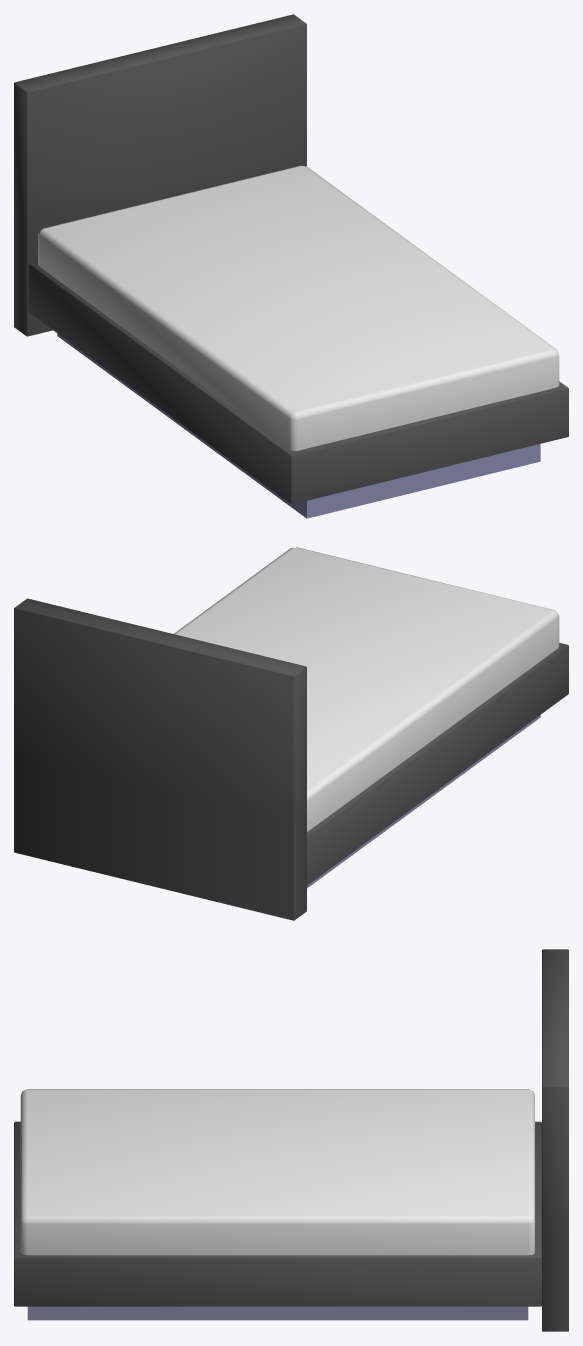
The model's file is MZCBD05A.FBX.
3 views of the same model, one above another, from view 1: azimuth 30°, elevation 25°; view 2: azimuth 150°, elevation 25°; view 3: azimuth 270°, elevation 25° (orthographic).
Visible parts, largest first — view 1: MZCBD05A; view 2: MZCBD05A; view 3: MZCBD05A.
Boxes of the visible parts, x1,y1,x2,y2 form: MZCBD05A: (14, 14, 568, 518); MZCBD05A: (14, 547, 568, 920); MZCBD05A: (14, 949, 568, 1331).
Bounding box in the file's own units: 120 × 205 × 100.
